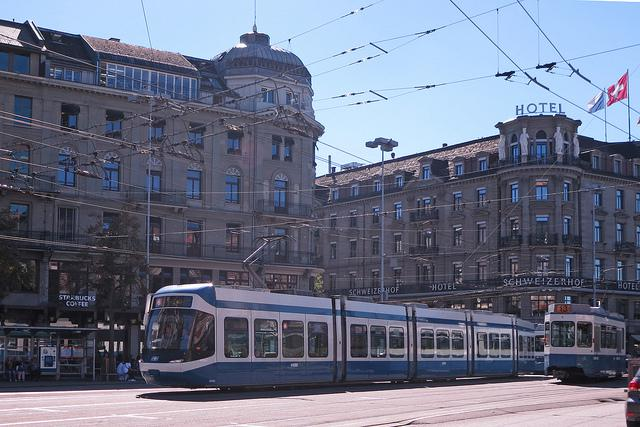Train: (143, 283, 540, 392), (543, 305, 630, 386)
